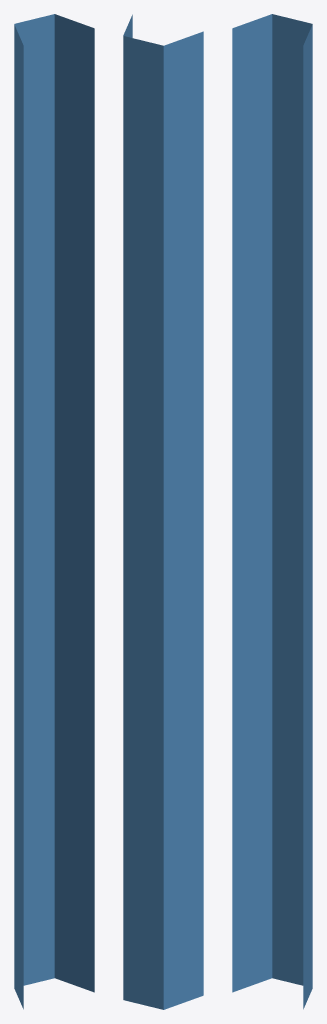
The model's file is OM_BedPillar.fbx.
The picture shows the model from 3 angles, left to right: view 1: azimuth 30°, elevation 25°; view 2: azimuth 150°, elevation 25°; view 3: azimuth 330°, elevation 25°; orthographic projection.
Parts seen in each view (by area): view 1: pCube102; view 2: pCube102; view 3: pCube102.
Boxes of the visible parts, x1=… form: pCube102: x1=14, y1=14, x2=94, y2=1009; pCube102: x1=123, y1=14, x2=203, y2=1009; pCube102: x1=232, y1=14, x2=312, y2=1009.
Size of the model in its own units: 27.38 by 355 by 16.51.
